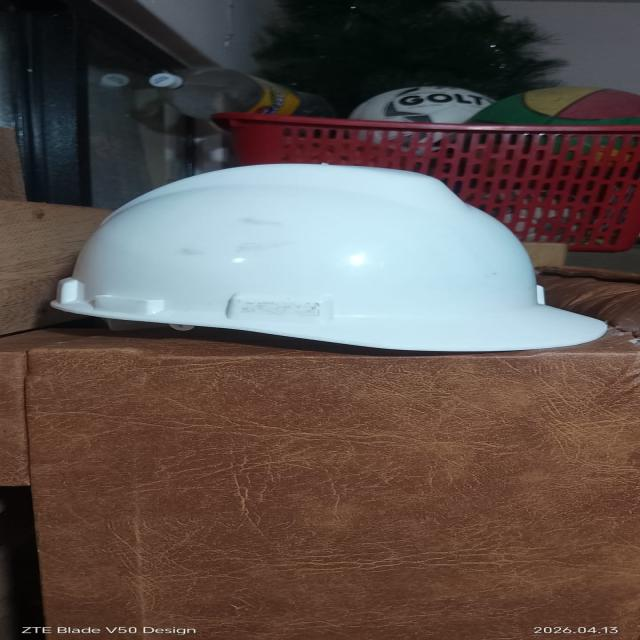casco: (59, 152, 614, 363)
